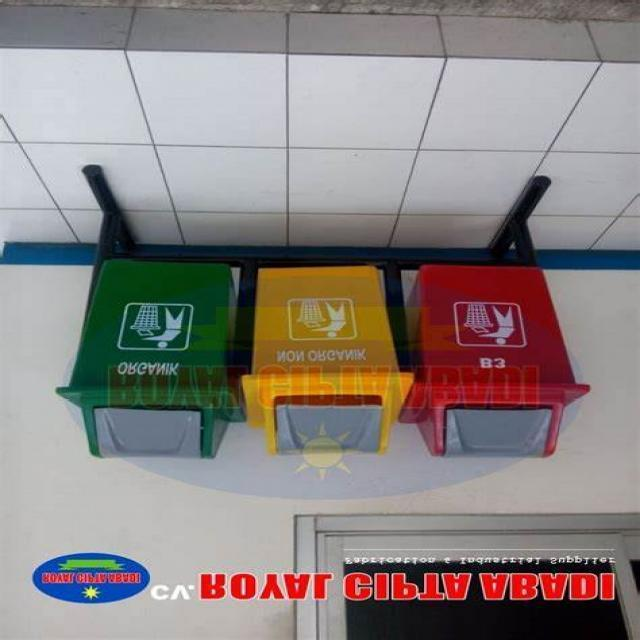garbage container: (37, 216, 255, 484), (415, 235, 590, 477), (248, 216, 414, 466)
